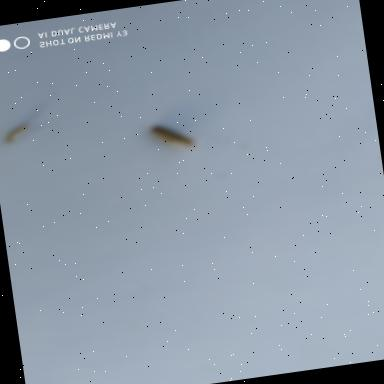pbw: (151, 122, 194, 152)
